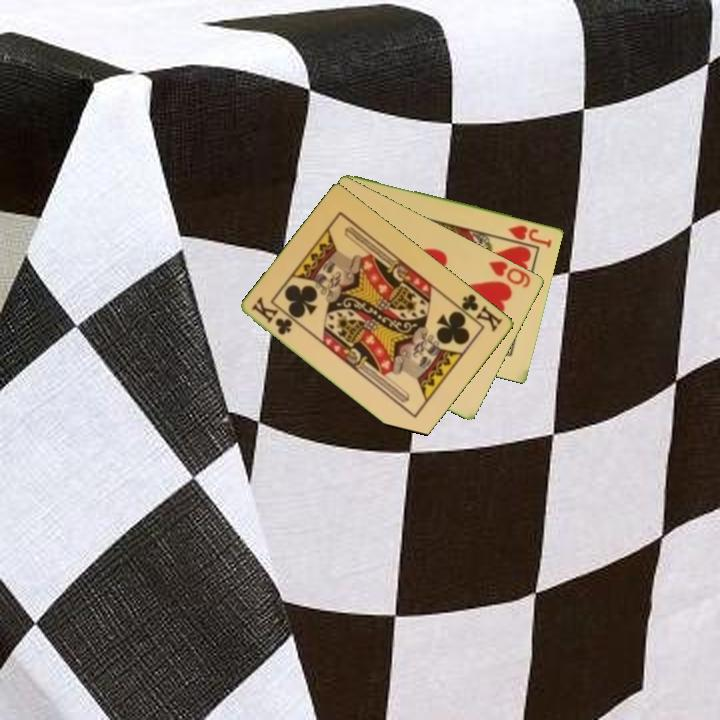6h: (485, 257, 534, 291)
Jh: (505, 221, 555, 250)
Kc: (452, 290, 506, 335), (248, 293, 296, 338)
